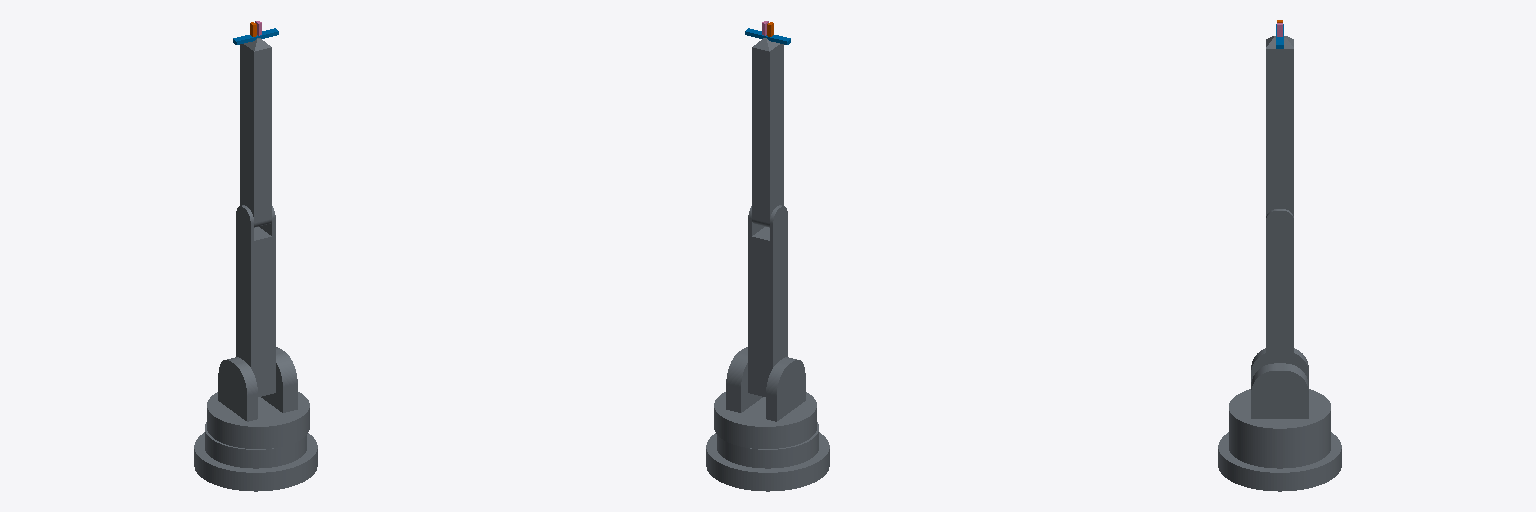
robot.urdf — robotic_arm:
<?xml version="1.0"?>
<robot name="robotic_arm">
  <link name="base_link">
    <visual>
      <geometry>
        <mesh filename="package://robotic_arm/mesh/1.dae" scale="10 10 10"/>

        <origin xyz="0 0 0" rpy="0 0 0" />
      </geometry>
    </visual>
  </link>

  <link name="link2">
    <visual>
      <geometry>
        <mesh filename="package://robotic_arm/mesh/2.dae" scale="10 10 10"/>

        <origin xyz="0 0 0" rpy="0 0 0" />
      </geometry>
    </visual>
  </link>

  <link name="link3">
    <visual>
      <geometry>
        <mesh filename="package://robotic_arm/mesh/3.dae" scale="10 10 10"/>

        <origin xyz="0 0 0" rpy="0 0 0"/>
      </geometry>
    </visual>
  </link>

  <link name="link4">
    <visual>
      <geometry>
        <mesh filename="package://robotic_arm/mesh/4_.dae" scale="10 10 10"/>

        <origin xyz="0 0 0" rpy="0 0 0"/>
      </geometry>
    </visual>
  </link>

  <link name="link5">
    <visual>
      <geometry>
        <box size="0.12 0.02 0.01"/>
        <origin xyz="0 0 0" rpy="0 0 0"/>
      </geometry>
    </visual>
  </link>

  <link name="link6">
    <visual>
        <geometry>
            <box size="0.01 0.016 0.035"/>
            <origin xyz="0 0 0" rpz="0 0 0"/>
        </geometry>
    </visual>
  </link>


<link name="link7">
    <visual>
        <geometry>
            <box size="0.01 0.016 0.035"/>
            <origin xyz="0 0 0" rpz="0 0 0"/>
        </geometry>
    </visual>
  </link>

  <joint name="base_link2" type="revolute">
    <parent link="base_link"/>
    <child link="link2"/>
    <origin xyz="0 0 0.1" rpy="0 0 0"/>
    <axis xyz="0 0 1"/>
    <limit effort="300" velocity="2.0" lower="-3.14" upper="3.14"/>
  </joint>

  <joint name="link2_link3" type="revolute">
    <parent link="link2"/>
    <child link="link3"/>
    <origin xyz="0 0 0.1" rpy="0 0 0"/>
    <axis xyz="1 0 0" />
    <limit effort="300" velocity="2.0" lower="-1.57" upper="1.57"/>
  </joint>

  <joint name="link3_link4" type="revolute">
    <parent link="link3"/>
    <child link="link4"/>
    <origin xyz="0 0 0.45" rpy="0 0 0"/>
    <axis xyz="1 0 0" />
    <limit effort="300" velocity="2.0" lower="-1.57" upper="1.57"/>
  </joint>

  <!--gripper-->

  <joint name="link4_link5" type="fixed">
    <parent link="link4"/>
    <child link="link5"/>
    <origin xyz="0 0 0.5" rpy="0 0 0"/> 
    <axis xyz="0 1 0"/>
  </joint>

  <joint name="link5_link6" type="prismatic">
    <parent link="link5"/>
    <child link="link6"/>
    <origin xyz="-0.008 0 0.02 " rpz="0 0 0"/>
    <axis xyz="-1 0 0"/>
    <limit lower="0.0" upper="0.05" effort="10.0" velocity="0.5"/>
  </joint>

  <joint name="link5_link7" type="prismatic">
    <parent link="link5"/>
    <child link="link7"/>
    <origin xyz="0.008 0 0.02 " rpz="0 0 0"/>
    <axis xyz="1 0 0"/>
    <limit lower="0.0" upper="0.05" effort="10.0" velocity="0.5"/>
    <mimic joint="link5_link6" multiplier="1.0" offset="0.0"/>
  </joint>
</robot>

--- What the picture shows (computed from the rendered views, not written in the file) ---
The picture shows the robot from 3 angles, left to right: view 1: azimuth 30°, elevation 25°; view 2: azimuth 150°, elevation 25°; view 3: azimuth 270°, elevation 25°; orthographic projection.
Robot: robotic_arm — 7 links, 6 joints (3 revolute, 2 prismatic, 1 fixed); root link base_link; default pose: all joints at 0.
Visible links, largest first — view 1: link2, link3, link4, base_link; view 2: link2, link3, link4, base_link; view 3: link2, base_link, link4, link3.
Boxes of the visible links, x1,y1,x2,y2 form: link2: [207, 347, 309, 448]; link3: [236, 205, 275, 396]; link4: [240, 38, 271, 227]; base_link: [194, 422, 317, 491]; link2: [714, 347, 816, 448]; link3: [748, 205, 787, 396]; link4: [752, 38, 783, 227]; base_link: [706, 422, 829, 491]; link2: [1229, 348, 1330, 450]; base_link: [1218, 432, 1341, 491]; link4: [1266, 36, 1293, 215]; link3: [1266, 209, 1293, 364].
Bounding box of the posed robot: 0.3 × 0.2999 × 1.19 m (x, y, z).
4 mesh visuals loaded from 4 distinct referenced files (4 Collada DAE).